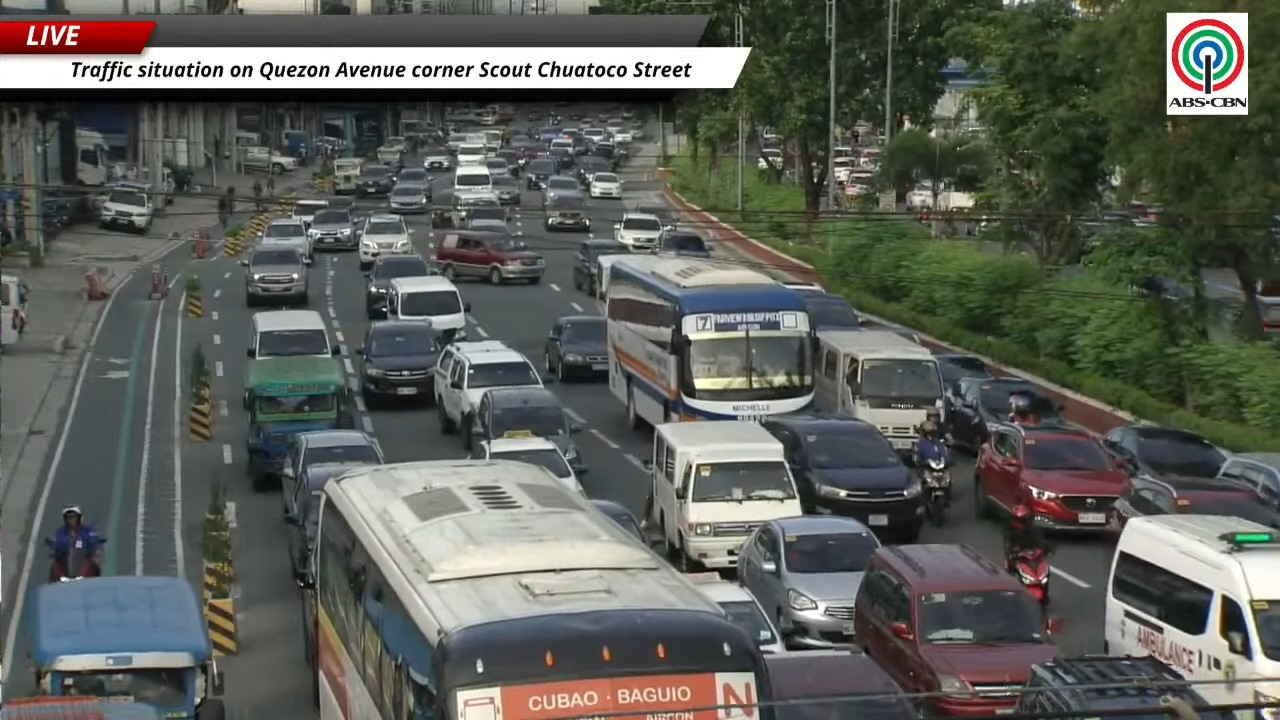bus: (306, 460, 767, 719), (604, 256, 812, 426)
car: (854, 544, 1059, 716), (762, 414, 923, 541), (737, 515, 879, 646), (974, 423, 1127, 530), (1015, 655, 1210, 716), (765, 647, 920, 719), (433, 341, 542, 433), (1108, 474, 1279, 532), (462, 386, 581, 469), (282, 463, 367, 576), (686, 572, 785, 653), (357, 320, 442, 402), (471, 436, 584, 495), (948, 377, 1038, 451), (1103, 425, 1227, 477), (434, 230, 544, 284), (282, 429, 384, 482), (365, 254, 437, 319), (544, 314, 607, 381), (241, 245, 310, 306), (1217, 452, 1280, 511), (572, 238, 630, 295), (359, 214, 413, 270), (589, 498, 647, 546), (99, 185, 152, 233), (798, 291, 860, 331), (935, 353, 993, 395), (448, 189, 505, 227), (308, 207, 358, 250), (259, 217, 311, 257), (614, 212, 664, 251), (544, 192, 590, 231), (652, 228, 711, 258), (388, 180, 429, 213), (574, 155, 613, 188), (542, 175, 580, 208), (464, 205, 508, 233), (627, 201, 674, 227), (356, 164, 395, 195), (429, 186, 456, 227), (291, 199, 329, 228), (524, 158, 557, 189), (492, 174, 521, 205), (397, 159, 430, 186), (591, 141, 623, 168), (420, 146, 453, 172), (456, 142, 486, 166), (495, 147, 519, 177), (397, 153, 424, 178), (445, 132, 466, 159), (757, 148, 783, 169), (780, 281, 825, 293), (605, 119, 629, 141), (484, 156, 509, 175), (536, 126, 560, 143), (582, 128, 607, 142)
motorcycle: (914, 438, 951, 526), (49, 537, 105, 582), (1009, 548, 1050, 607)
truck: (813, 329, 944, 453), (75, 127, 110, 186), (240, 146, 298, 174), (333, 158, 363, 194)
